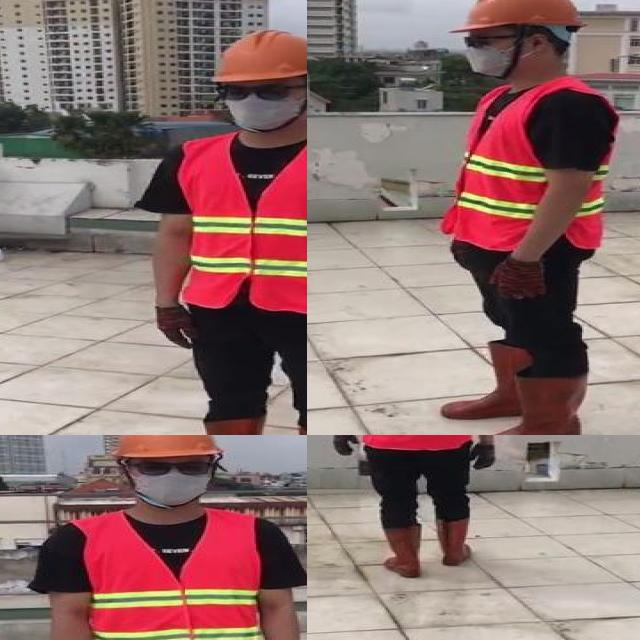boots: (470, 376, 589, 435), (444, 342, 530, 419), (378, 525, 423, 578), (434, 519, 473, 567)
face_mask: (126, 453, 217, 504), (217, 80, 306, 132), (457, 31, 522, 77)
glasses: (128, 456, 219, 481), (209, 80, 299, 102), (456, 28, 504, 51)
hand_glove: (488, 258, 548, 299), (154, 307, 198, 349), (332, 435, 359, 459), (472, 443, 494, 472)
head_helmet: (26, 435, 307, 640), (205, 29, 307, 82), (448, 0, 587, 34), (107, 435, 226, 459)
person: (424, 0, 625, 435), (127, 25, 307, 435), (329, 435, 501, 586)
vest: (449, 80, 612, 252), (74, 513, 268, 640), (180, 133, 307, 312)
